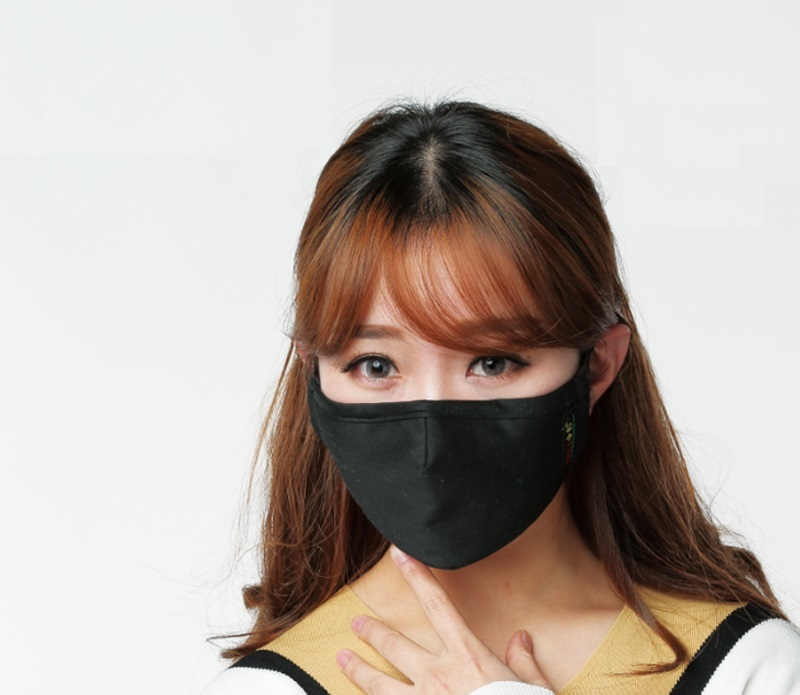face_mask: (310, 230, 574, 558)
